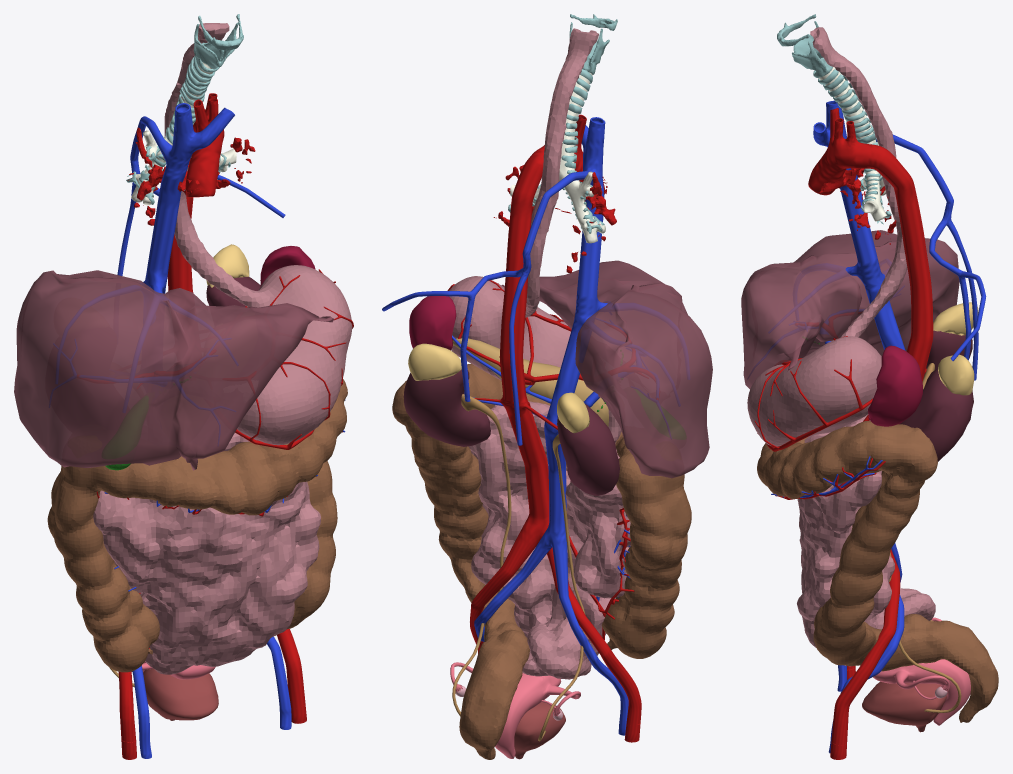
Rendered from abdomen.glb.
3 renders of one model, left to right at view 1: azimuth 30°, elevation 25°; view 2: azimuth 150°, elevation 25°; view 3: azimuth 270°, elevation 25°, orthographic. The views are drawn at different scales.
Parts seen in each view (by area): view 1: Lever_liver_mat_0.001, Intestine_Small_Dunne_darms_stomach_mat_0, Intestine_Large_Dikke_darms_large_int_mat_0, Vein_1_veins_mat_0.001, Artery_1_arteries_mat_0.001, Bladder_Blaas_bladder_mat_0.001, Cartilage_trachea_cartilage_mat_0.001, Artery_2_arteries_mat_0.001, Heart_arteries_mat_0.001, Gallbladder_Galblaas_gallbladder_mat_0.001, Cartilage_throat_cartilage_mat_0.001, Trachea_trachea_mat_0.001 (+4 smaller); view 2: Intestine_Small_Dunne_darms_stomach_mat_0, Intestine_Large_Dikke_darms_large_int_mat_0, Lever_liver_mat_0.001, Vein_1_veins_mat_0.001, Artery_1_arteries_mat_0.001, Kidney_L_kidneys_mat_0.001, Kidney_R_kidneys_mat_0.001, Uterus1_uterus_mat_0.001, Spleen_Milt_spleen_mat_0.001, Pancreas_pancreas_mat_0.001, Trachea_trachea_mat_0.001, Bladder_Blaas_bladder_mat_0.001 (+11 smaller); view 3: Intestine_Large_Dikke_darms_large_int_mat_0, Intestine_Small_Dunne_darms_stomach_mat_0, Lever_liver_mat_0.001, Artery_1_arteries_mat_0.001, Vein_1_veins_mat_0.001, Spleen_Milt_spleen_mat_0.001, Kidney_L_kidneys_mat_0.001, Bladder_Blaas_bladder_mat_0.001, Uterus1_uterus_mat_0.001, Cartilage_trachea_cartilage_mat_0.001, Artery_2_arteries_mat_0.001, Cartilage_throat_cartilage_mat_0.001 (+8 smaller).
Boxes of the visible parts, x1,y1,x2,y2 form: Lever_liver_mat_0.001: (14,270,334,470); Intestine_Small_Dunne_darms_stomach_mat_0: (93,23,352,674); Intestine_Large_Dikke_darms_large_int_mat_0: (47,379,347,672); Vein_1_veins_mat_0.001: (55,103,291,758); Artery_1_arteries_mat_0.001: (118,93,306,759); Bladder_Blaas_bladder_mat_0.001: (143,668,218,720); Cartilage_trachea_cartilage_mat_0.001: (126,56,230,204); Artery_2_arteries_mat_0.001: (77,269,353,449); Heart_arteries_mat_0.001: (128,127,255,225); Gallbladder_Galblaas_gallbladder_mat_0.001: (102,379,188,470); Cartilage_throat_cartilage_mat_0.001: (193,14,243,72); Trachea_trachea_mat_0.001: (131,62,236,205); Intestine_Small_Dunne_darms_stomach_mat_0: (449,28,631,679); Intestine_Large_Dikke_darms_large_int_mat_0: (392,363,691,759); Lever_liver_mat_0.001: (501,260,712,478); Vein_1_veins_mat_0.001: (382,117,689,735); Artery_1_arteries_mat_0.001: (470,114,641,742); Kidney_L_kidneys_mat_0.001: (403,369,490,446); Kidney_R_kidneys_mat_0.001: (557,404,619,495); Uterus1_uterus_mat_0.001: (450,662,580,758); Spleen_Milt_spleen_mat_0.001: (409,296,456,350); Pancreas_pancreas_mat_0.001: (452,338,608,426); Trachea_trachea_mat_0.001: (508,72,605,243); Bladder_Blaas_bladder_mat_0.001: (514,700,565,759); Intestine_Large_Dikke_darms_large_int_mat_0: (757,421,998,722); Intestine_Small_Dunne_darms_stomach_mat_0: (747,27,935,666); Lever_liver_mat_0.001: (741,230,959,389); Artery_1_arteries_mat_0.001: (808,108,933,759); Vein_1_veins_mat_0.001: (768,100,986,753); Spleen_Milt_spleen_mat_0.001: (868,345,922,426); Kidney_L_kidneys_mat_0.001: (899,368,973,461); Bladder_Blaas_bladder_mat_0.001: (862,681,946,732); Uterus1_uterus_mat_0.001: (873,617,970,725); Cartilage_trachea_cartilage_mat_0.001: (818,69,891,224); Artery_2_arteries_mat_0.001: (754,312,872,451); Cartilage_throat_cartilage_mat_0.001: (777,14,832,77).
Bounding box in the file's own units: 288 × 699 × 232.
